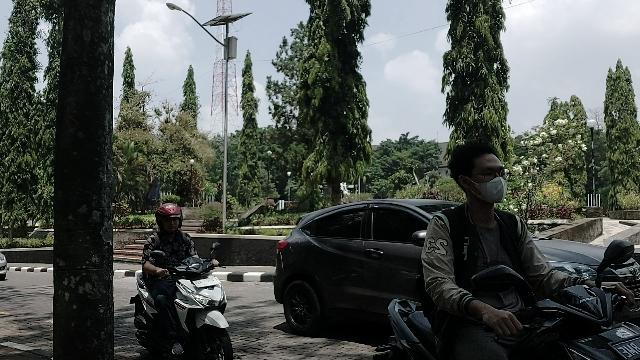helm: (155, 201, 185, 235)
motor: (372, 238, 640, 360), (130, 243, 237, 360)
non-helm: (450, 140, 511, 207)
